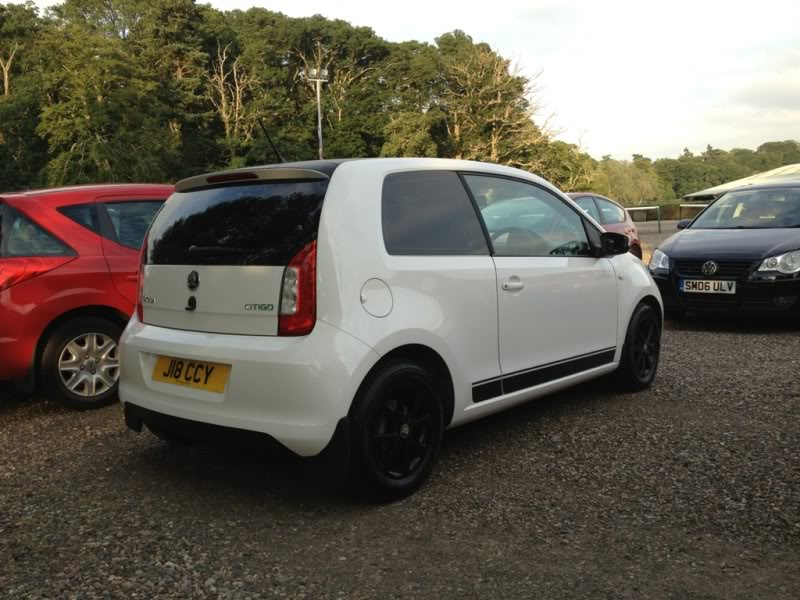car: (116, 160, 664, 497), (2, 180, 182, 416), (652, 180, 800, 333)
